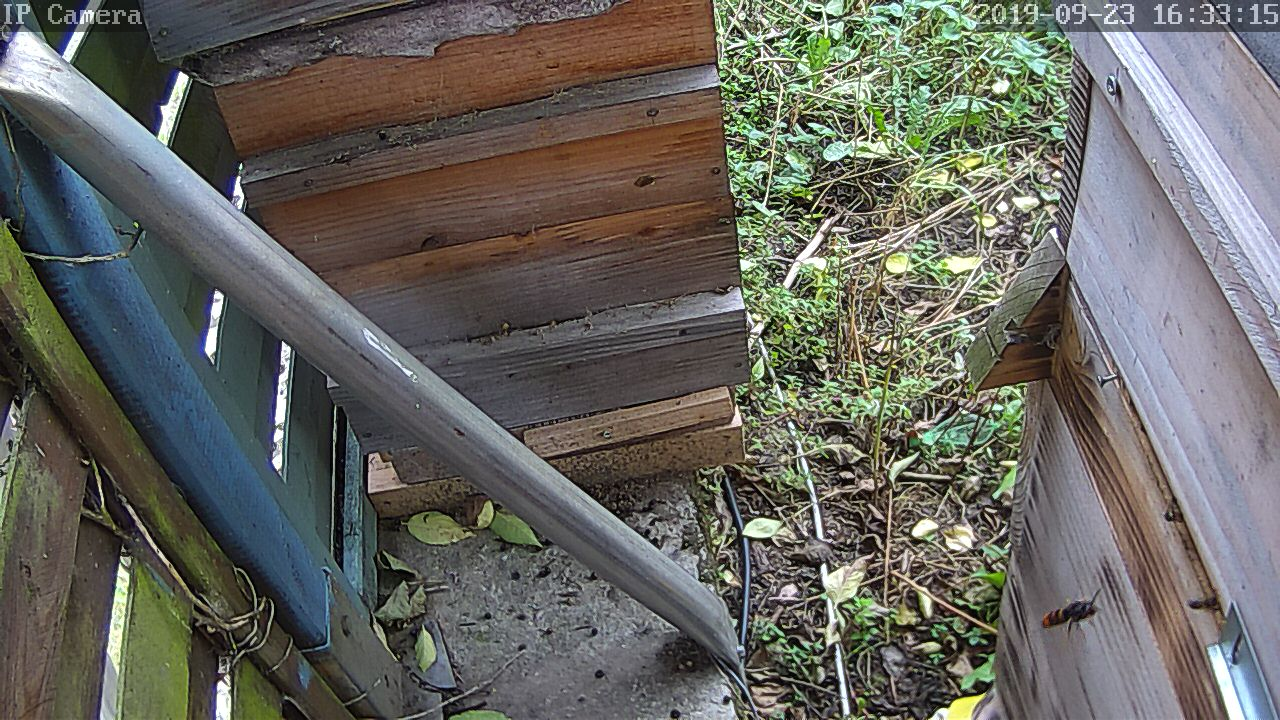hornet: (1040, 594, 1103, 639)
